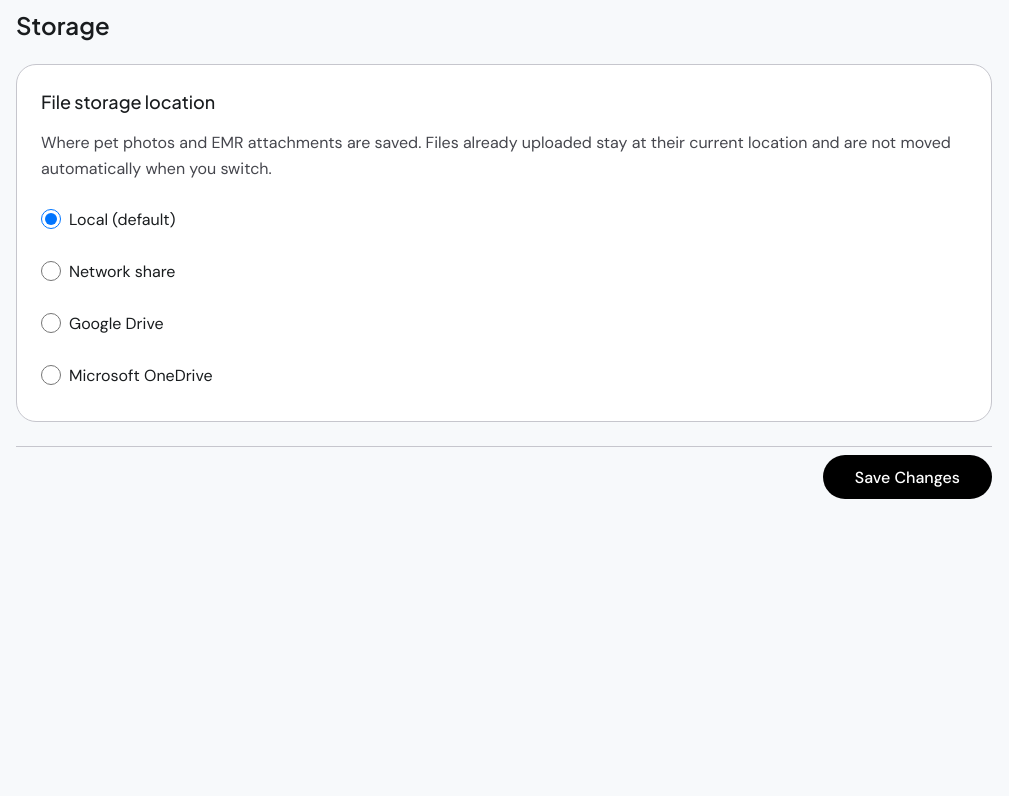
Test case: StoragePage › an SMB_HOST_UNREACHABLE error renders under the host field
This screenshot has width=1009, height=796.
Click the radio button labelled "Network share" at (51, 271), box [41,261,61,281]
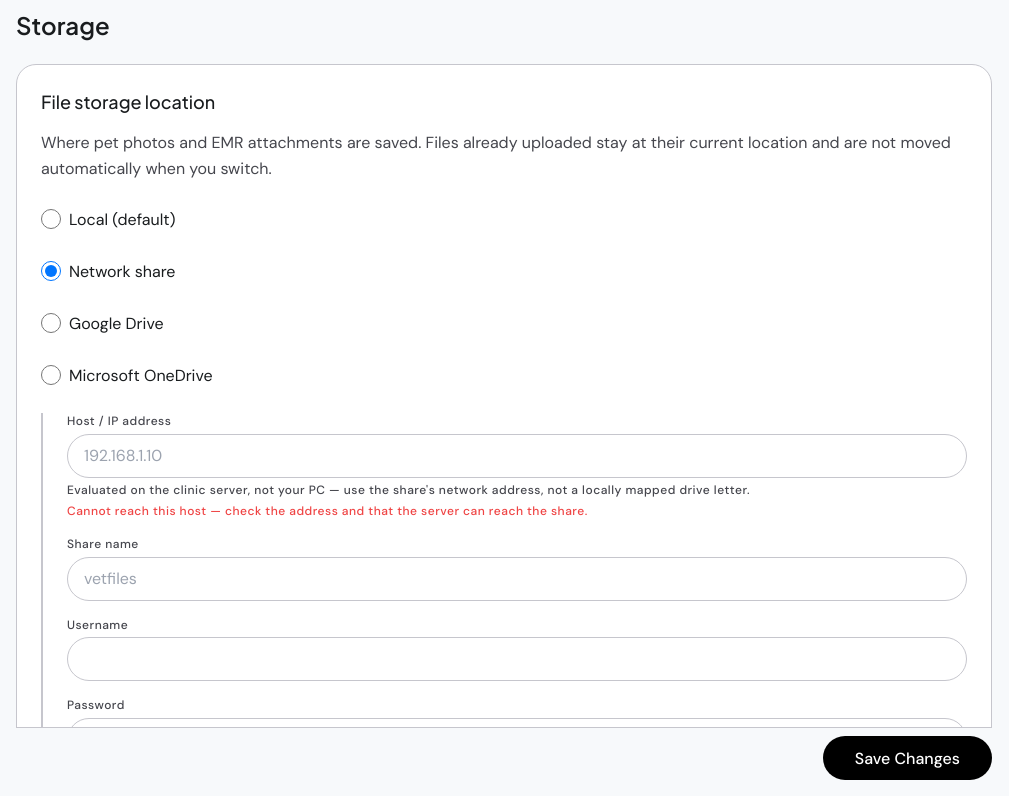
Now the text "Cannot reach this host" is shown, box [67,503,588,519]
